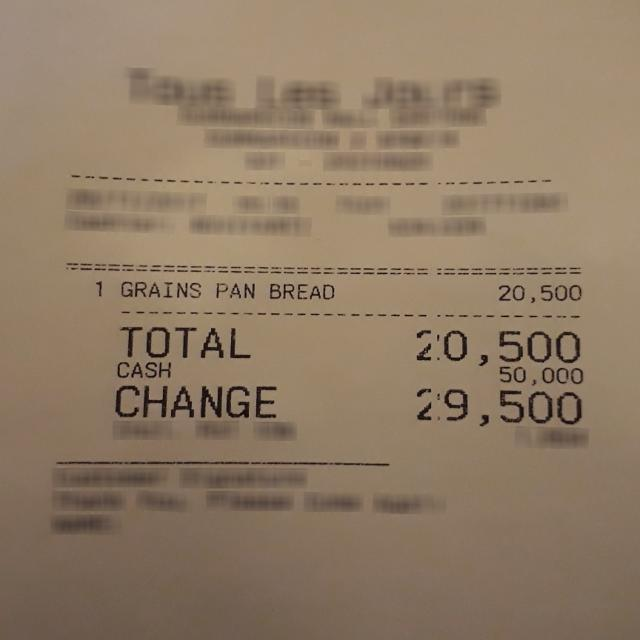kertas: (6, 1, 638, 640)
